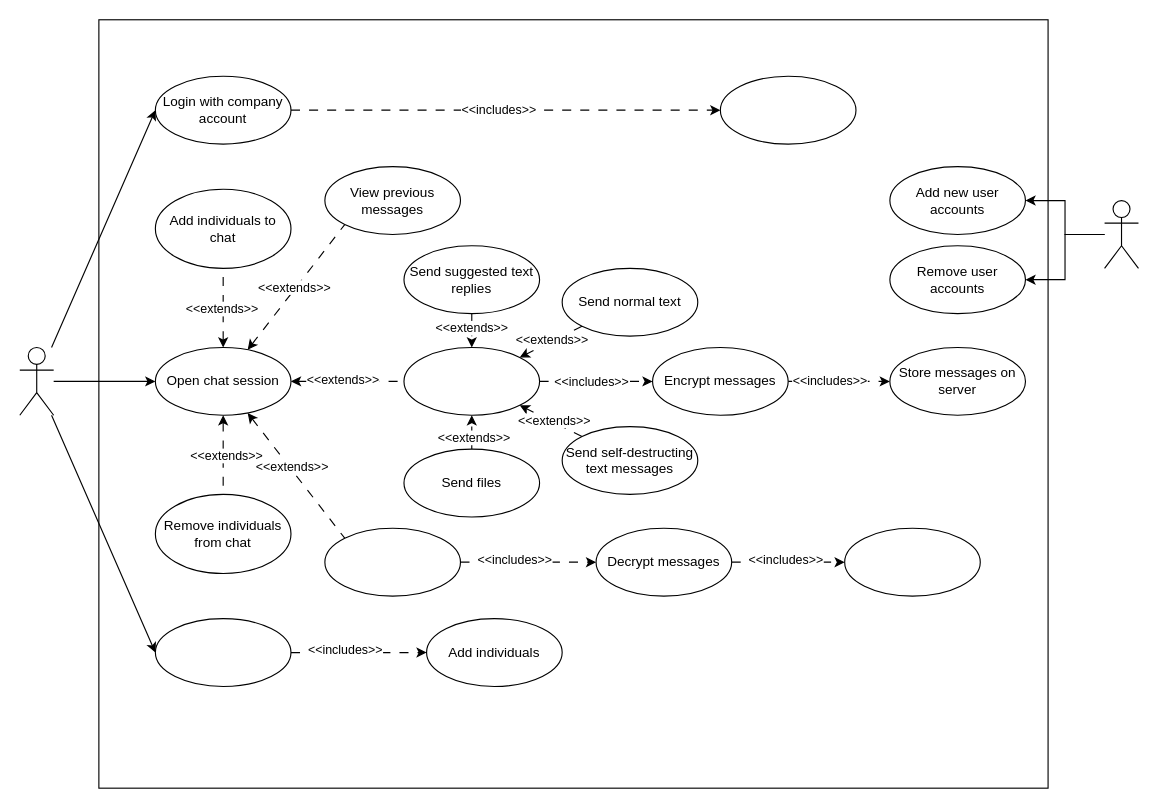
Some shapes in this 1161 by 808 pixel diagram are drawn without their labels. The box of each missing label's shape, as (x1, y1, x2, y2) in pixels:
Admin: (1103, 199, 1138, 268)
Create a chat: (154, 618, 291, 686)
Read new messages: (324, 527, 460, 596)
Send message: (403, 346, 540, 415)
Send messages to recipient: (844, 527, 980, 596)
User: (19, 346, 54, 415)
Verify password: (719, 75, 856, 144)
